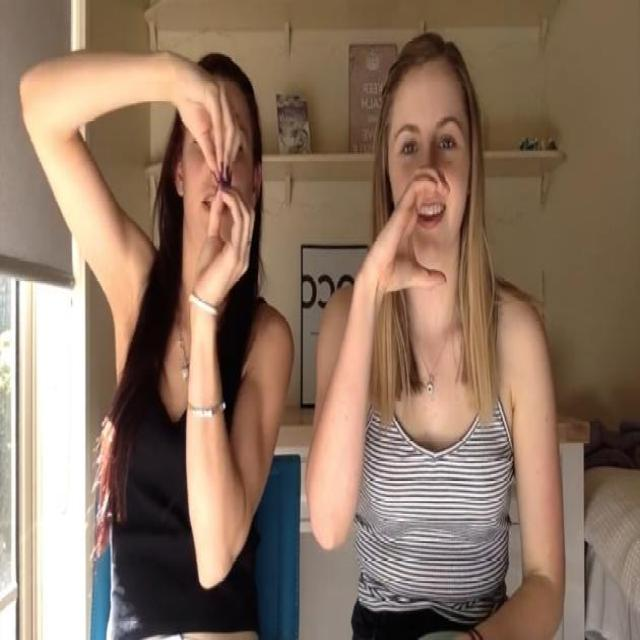B: (181, 60, 268, 330)
C: (390, 143, 466, 314)
